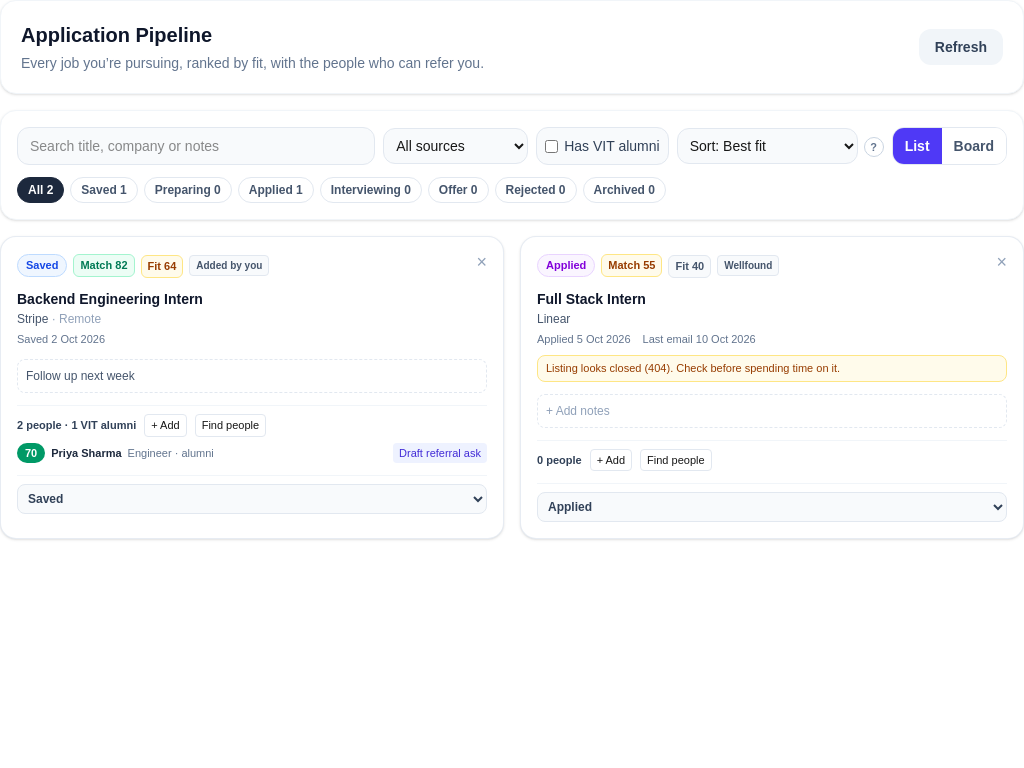
it: ApplicationsPipeline › deletes after an inline confirm and restores the card if the server fails
Expected: the link "Backend Engineering Intern" is shown, [17, 290, 203, 306]
Click the button named "Remove Backend Engineering Intern from pipeline": (482, 262) [476, 253, 487, 271]
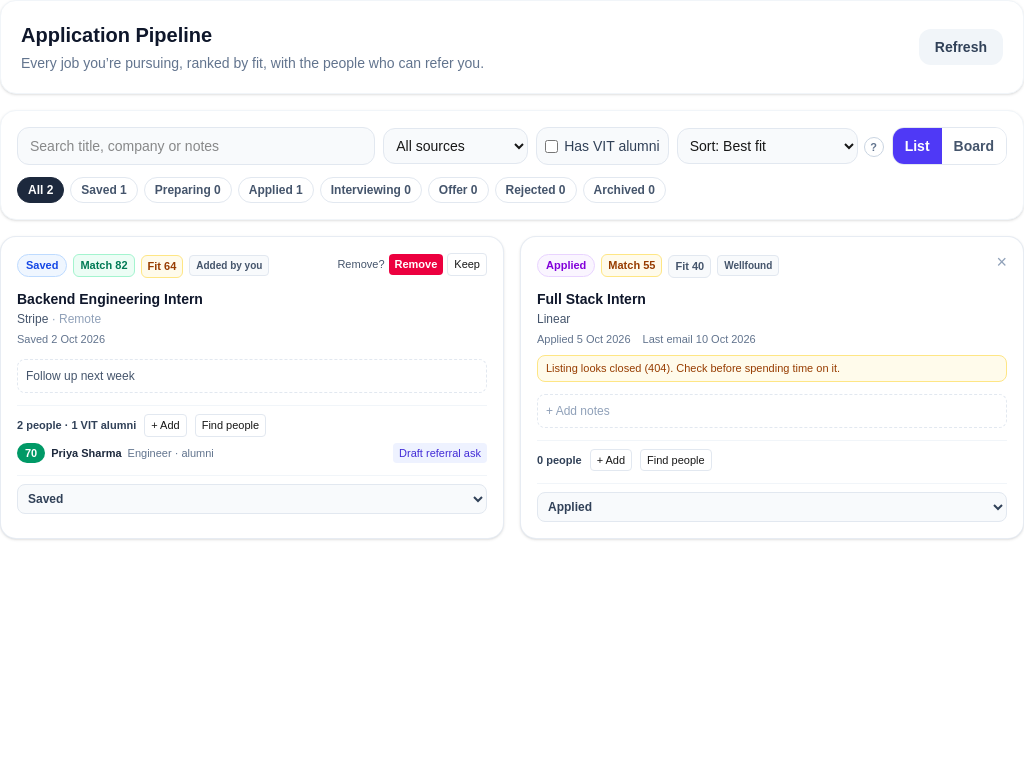
Click the button "Remove": (416, 264) [388, 254, 443, 274]
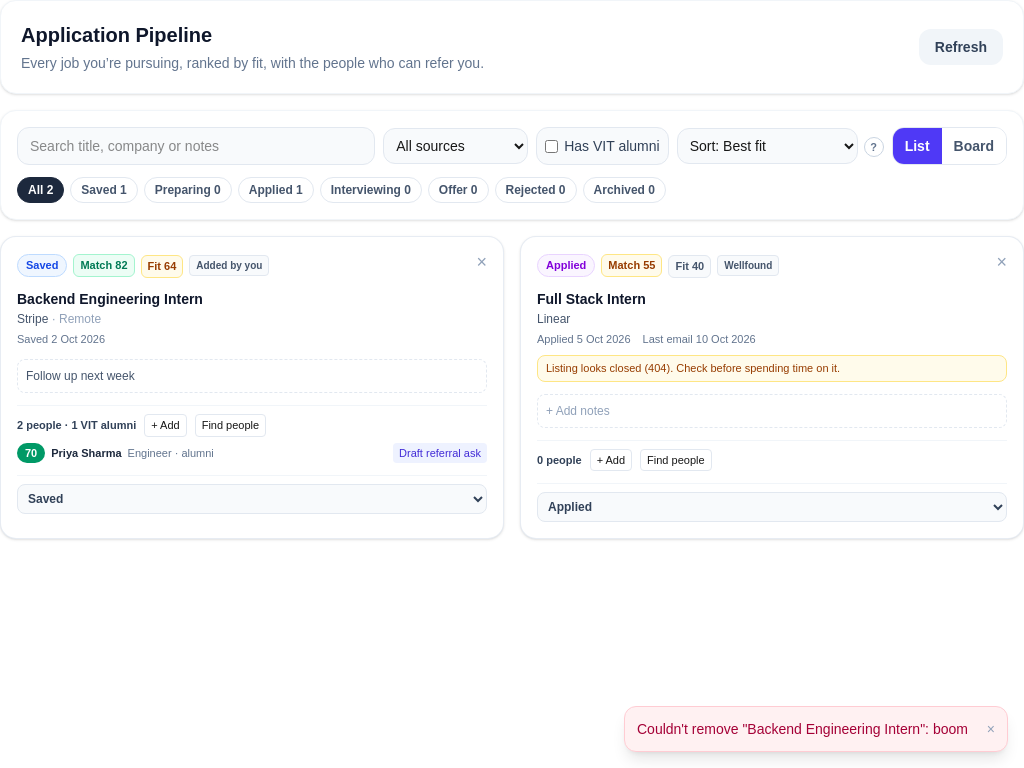
Expected: the link "Backend Engineering Intern" is shown, [17, 290, 203, 306]
Result: the message "Couldn't remove \"Backend Engineering Intern\": boom ×" is shown at [624, 706, 1008, 752]
